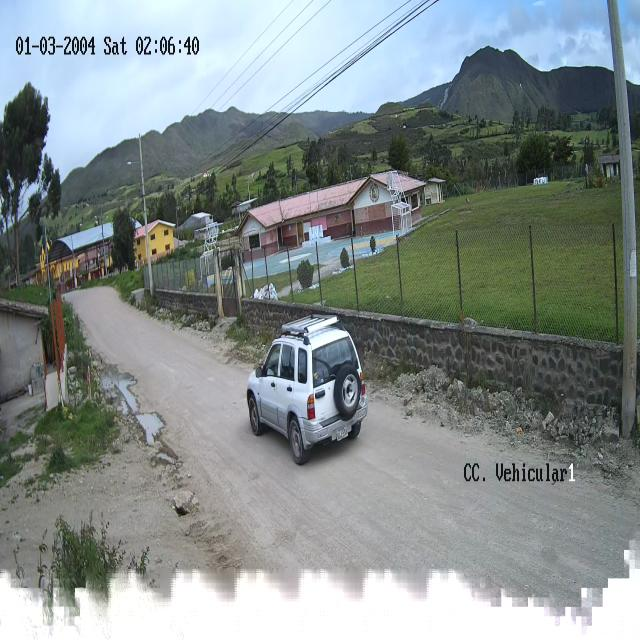SUV: (246, 319, 367, 466)
